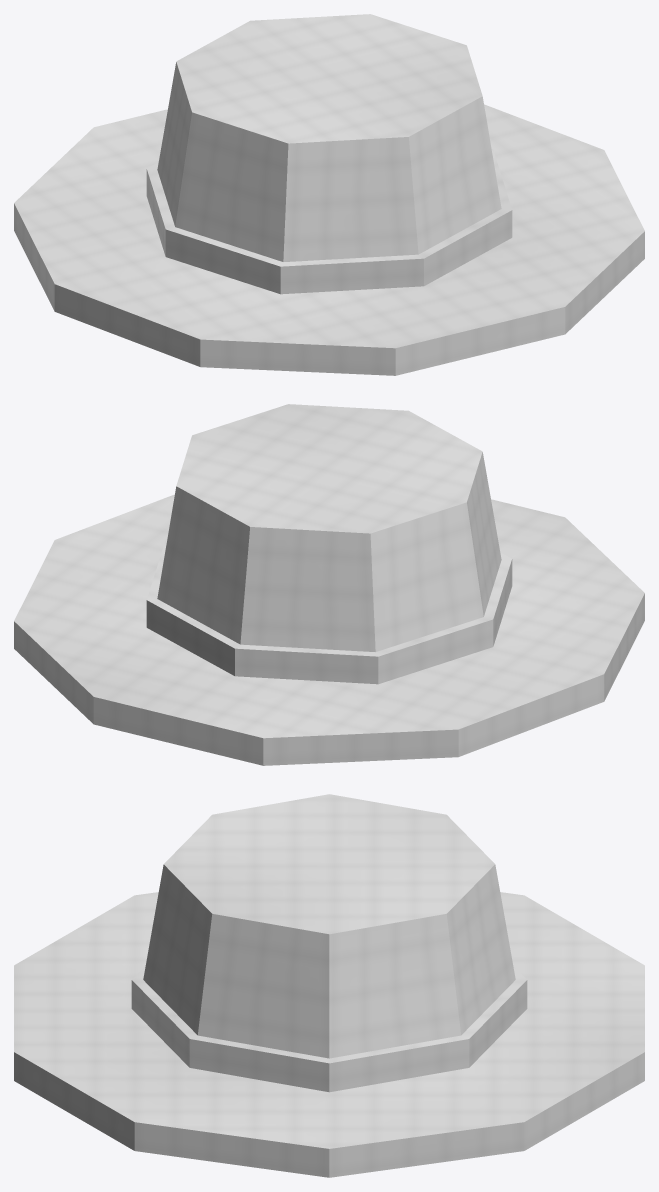
The model's file is hat.obj.
The picture shows the model from 3 angles, top to bottom: view 1: azimuth 30°, elevation 25°; view 2: azimuth 150°, elevation 25°; view 3: azimuth 270°, elevation 25°; orthographic projection. The views are drawn at different scales.
Visible parts, largest first — view 1: hat; view 2: hat; view 3: hat.
Part boxes in pixels (x1,y1,x2,y2): hat: (14, 14, 644, 375); hat: (14, 404, 644, 765); hat: (14, 794, 644, 1177).
Size of the model in its own units: 0.52 by 0.15 by 0.4946.
